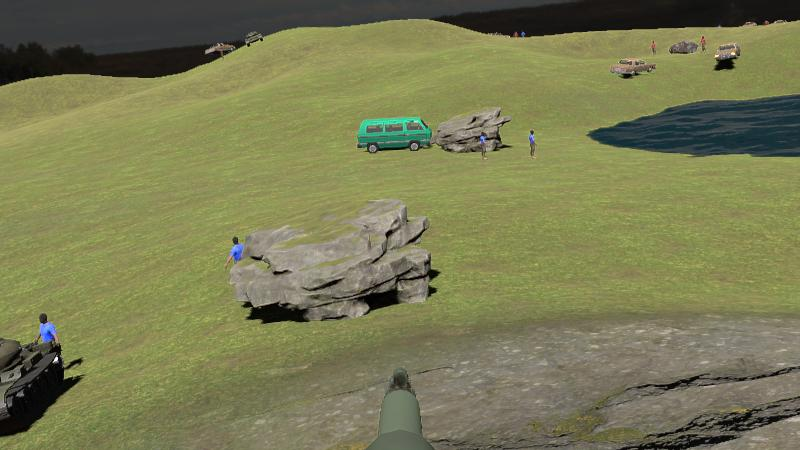Human: (34, 312, 61, 387), (225, 234, 245, 301)
Tank: (0, 334, 68, 437)
car: (357, 116, 431, 154), (610, 57, 656, 77), (714, 41, 741, 63)
